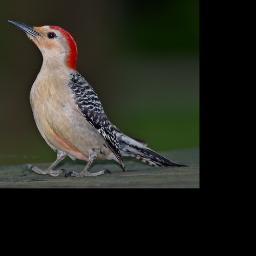Woodpecker: (3, 16, 189, 179)
